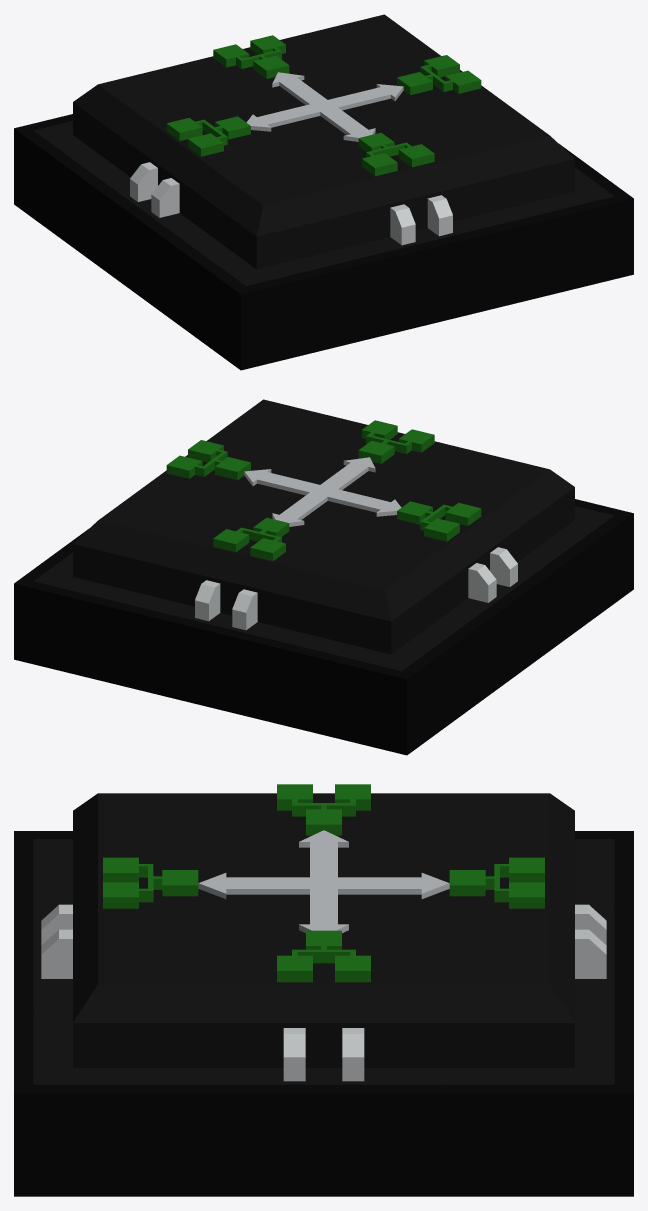
The model's file is DataBridge.fbx.
The picture shows the model from 3 angles, top to bottom: view 1: azimuth 30°, elevation 25°; view 2: azimuth 150°, elevation 25°; view 3: azimuth 270°, elevation 25°; orthographic projection. The views are drawn at different scales.
Visible parts, largest first — view 1: DataBridge; view 2: DataBridge; view 3: DataBridge.
Boxes of the visible parts, box(x1,y1,x2,y2) form: DataBridge: box(14, 14, 633, 370); DataBridge: box(14, 399, 633, 755); DataBridge: box(14, 784, 633, 1196).
Size of the model in its own units: 0.5 by 0.5 by 0.1675.
